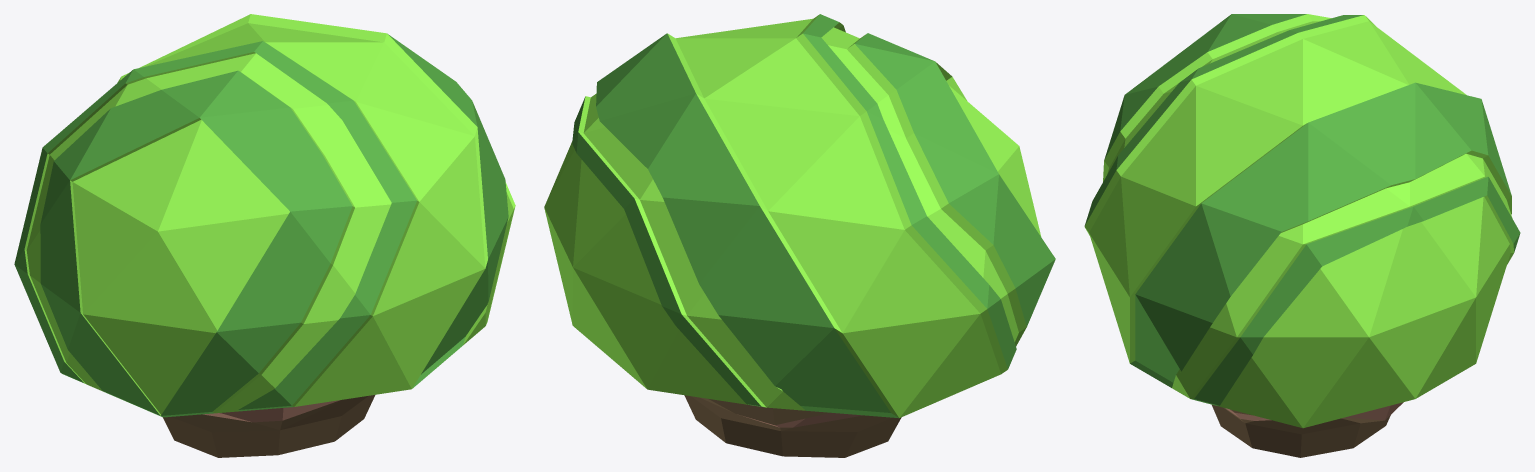
File: bush2.fbx
The picture shows the model from 3 angles, left to right: view 1: azimuth 30°, elevation 25°; view 2: azimuth 150°, elevation 25°; view 3: azimuth 270°, elevation 25°; orthographic projection.
Visible parts, largest first — view 1: Icosphere.001; view 2: Icosphere.001; view 3: Icosphere.001.
Part boxes in pixels (x1,y1,x2,y2): Icosphere.001: (14,14,515,457); Icosphere.001: (544,14,1055,457); Icosphere.001: (1084,14,1520,457).
Bounding box in the file's own units: 270 × 225 × 233.
